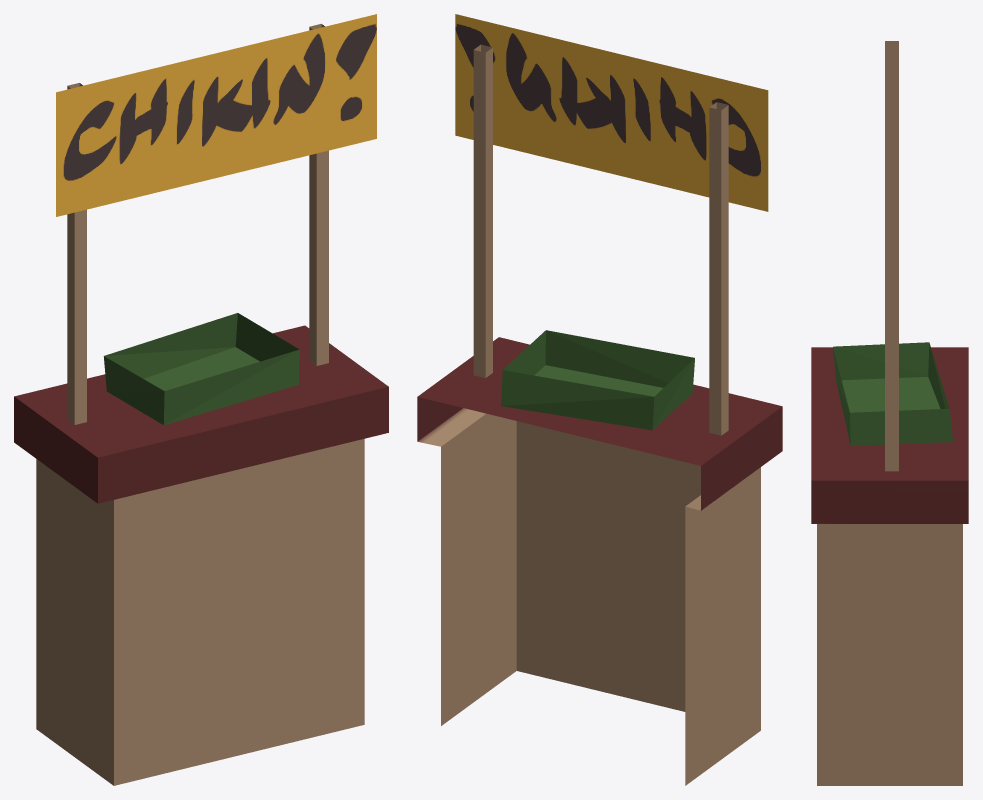
The model's file is InicioT.fbx.
3 renders of one model, left to right at view 1: azimuth 30°, elevation 25°; view 2: azimuth 150°, elevation 25°; view 3: azimuth 270°, elevation 25°, orthographic. The views are drawn at different scales.
Visible parts, largest first — view 1: puesto_inicio (×4); view 2: puesto_inicio (×4); view 3: puesto_inicio (×3).
Part boxes in pixels (box(x1,y1,x2,y2)): puesto_inicio (×4): box(14, 14, 388, 785); puesto_inicio (×4): box(417, 14, 782, 785); puesto_inicio (×3): box(811, 41, 968, 785).
Bounding box in the file's own units: 39.47 × 80.24 × 17.82.
4 materials, 4 textured.
